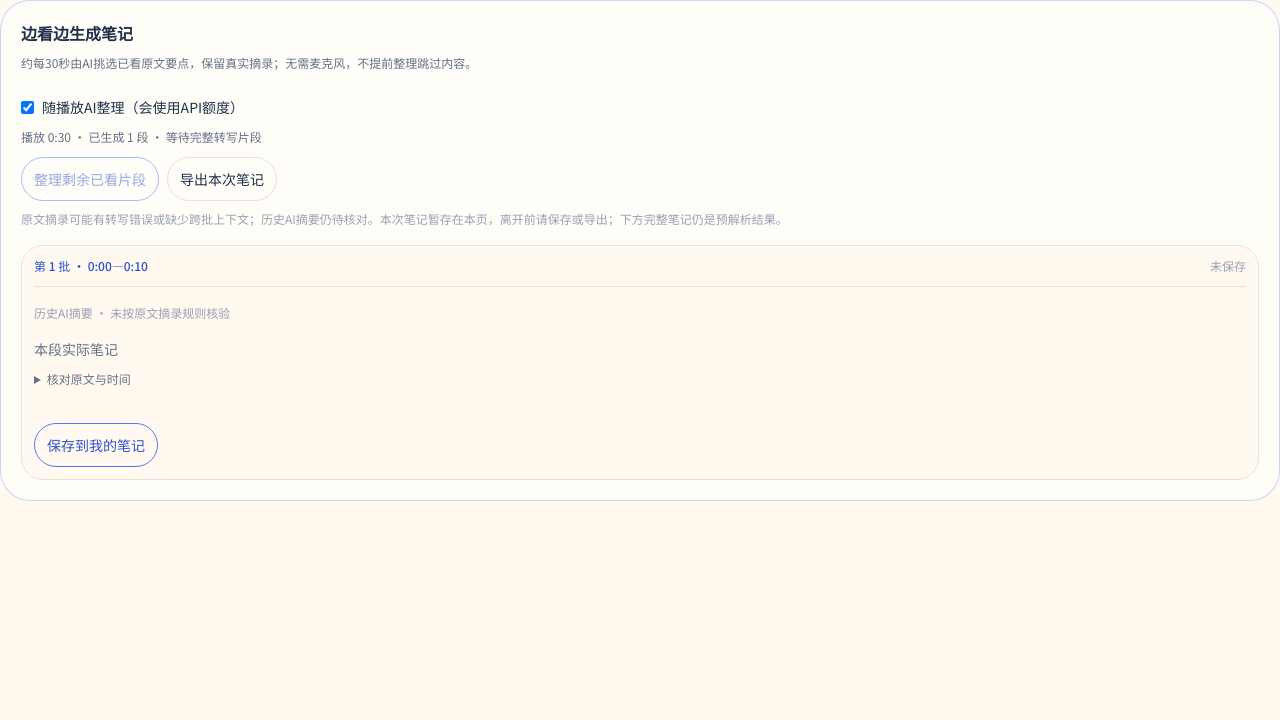
Test case: video watched notes › generates while continuous playback advances, not when initially paused
The image size is (1280, 720).
expect the text "本段实际笔记" is shown: met, box [34,339,118,359]
Click the button "保存到我的笔记": (96, 445) [34,423,158,467]
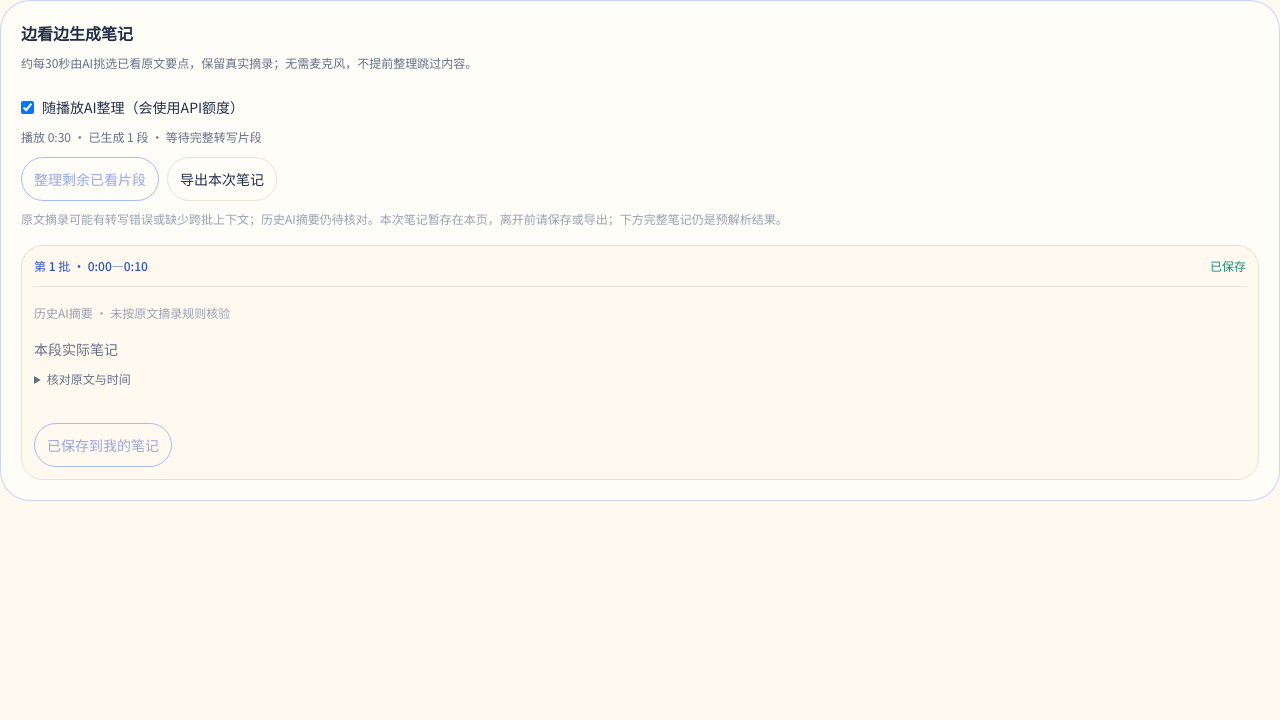
expect the button "已保存到我的笔记" is shown: met, box [34,423,172,467]
